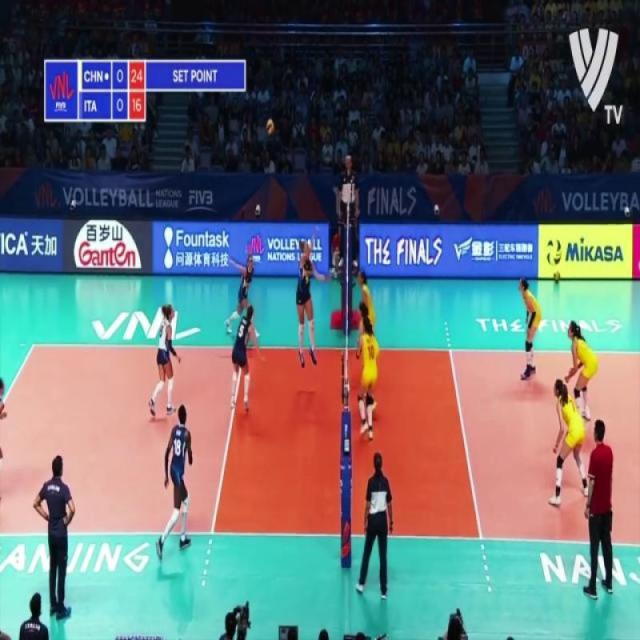volleyball: (545, 238, 563, 268), (266, 116, 276, 139)
